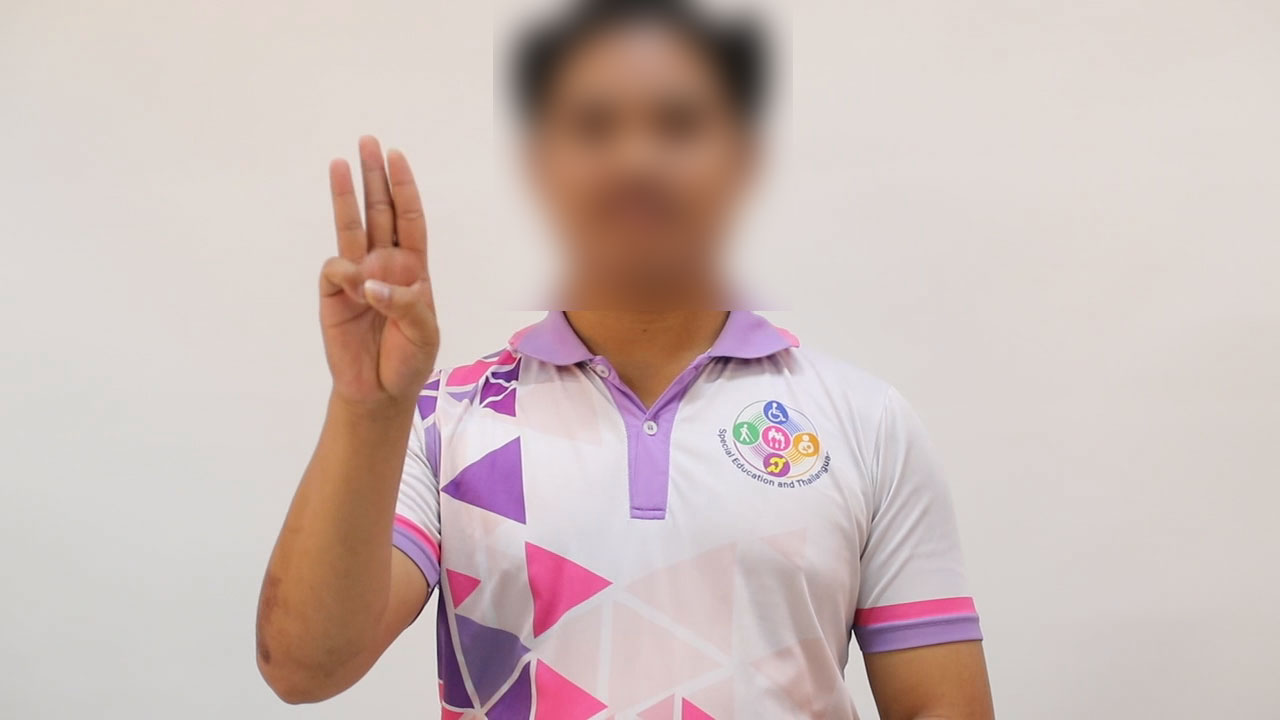wor: (307, 125, 445, 419)
